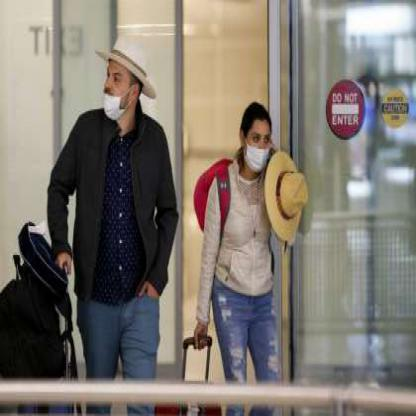Wearing_Mask: (102, 62, 126, 120), (246, 125, 268, 170)
